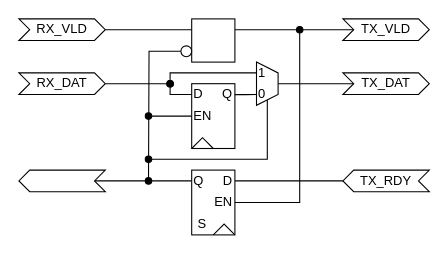
The diagram is 448 pixels wide and 255 high, and some of its shapes have lost their labels. The centre of each missing label's shape, as x and y in pixels:
"OR" goes at (213,40).
"RX_RDY" goes at (61,180).
